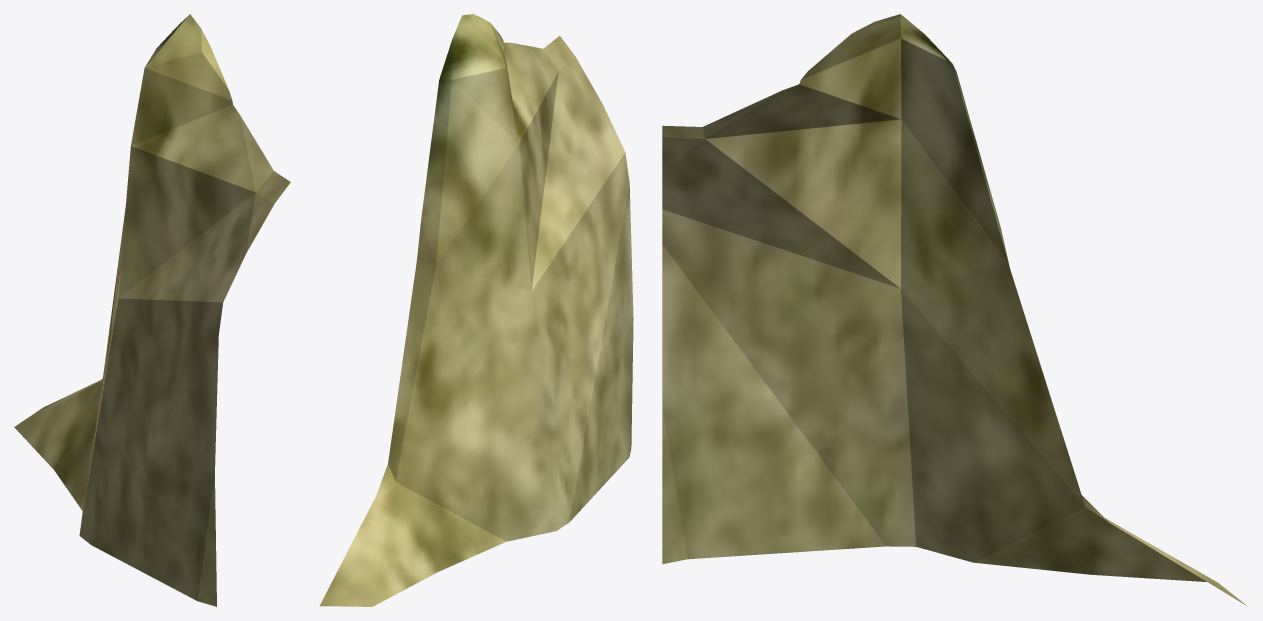
3 renders of one model, left to right at view 1: azimuth 30°, elevation 25°; view 2: azimuth 150°, elevation 25°; view 3: azimuth 270°, elevation 25°, orthographic. The views are drawn at different scales.
Bounding box in the file's own units: 0.2227 × 1.02 × 0.9116.
1 material, 1 textured.
